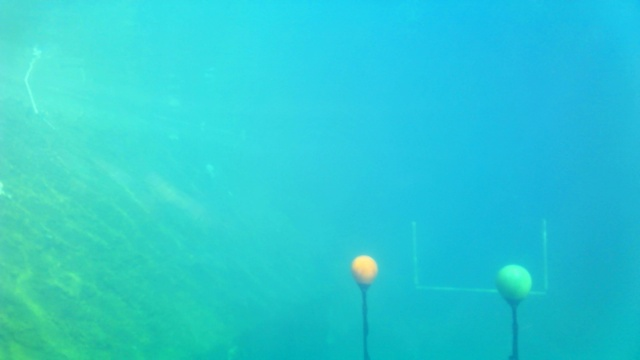buoy_green: (492, 263, 533, 312)
buoy_red: (348, 253, 379, 288)
